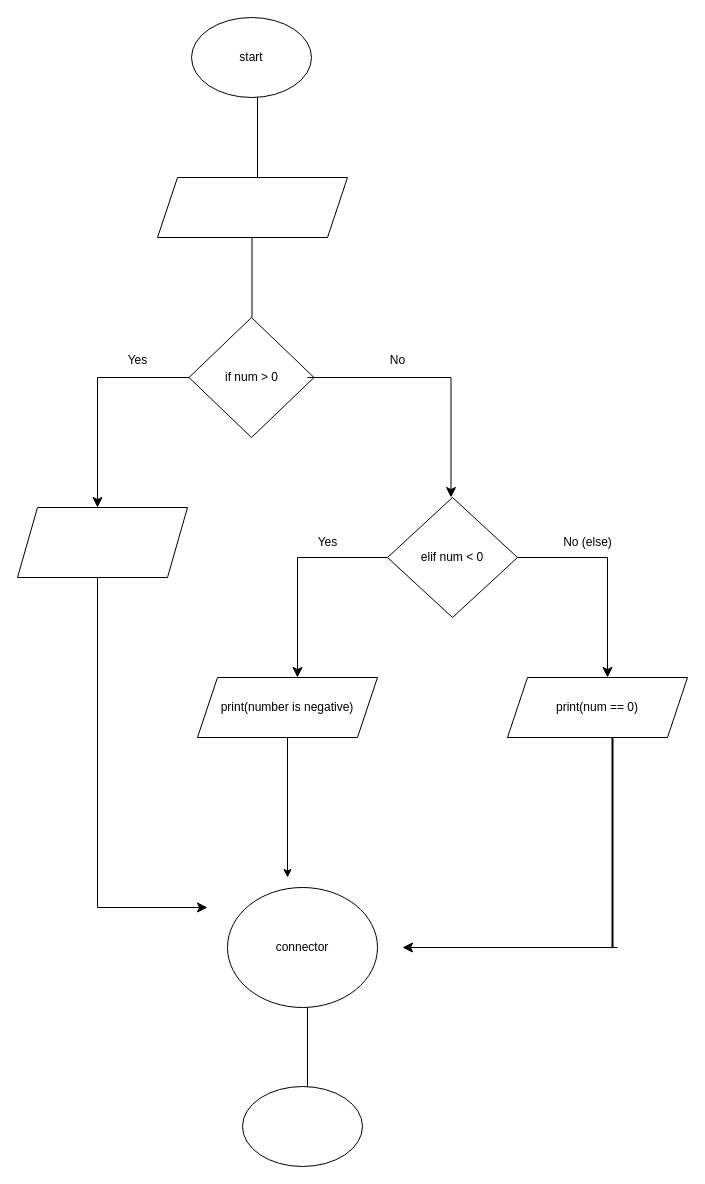
Image size: 705x1184. Some labels were removed from this diagram. The shapes that lost their labels are listed below. From the top down, each one's box as (x1, y1, x2, y2) in pixels, then its label:
(156, 176, 348, 238): input number
(16, 506, 188, 578): print(number is positive)
(242, 1086, 362, 1166): Stop
